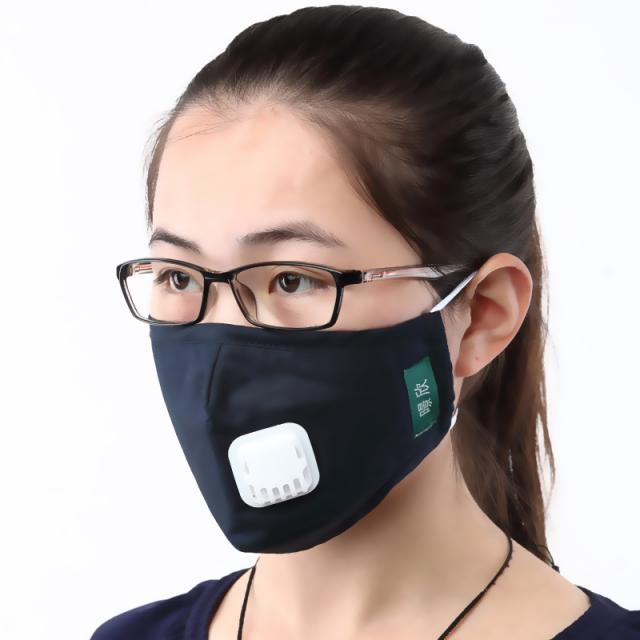mask: (137, 118, 436, 524)
